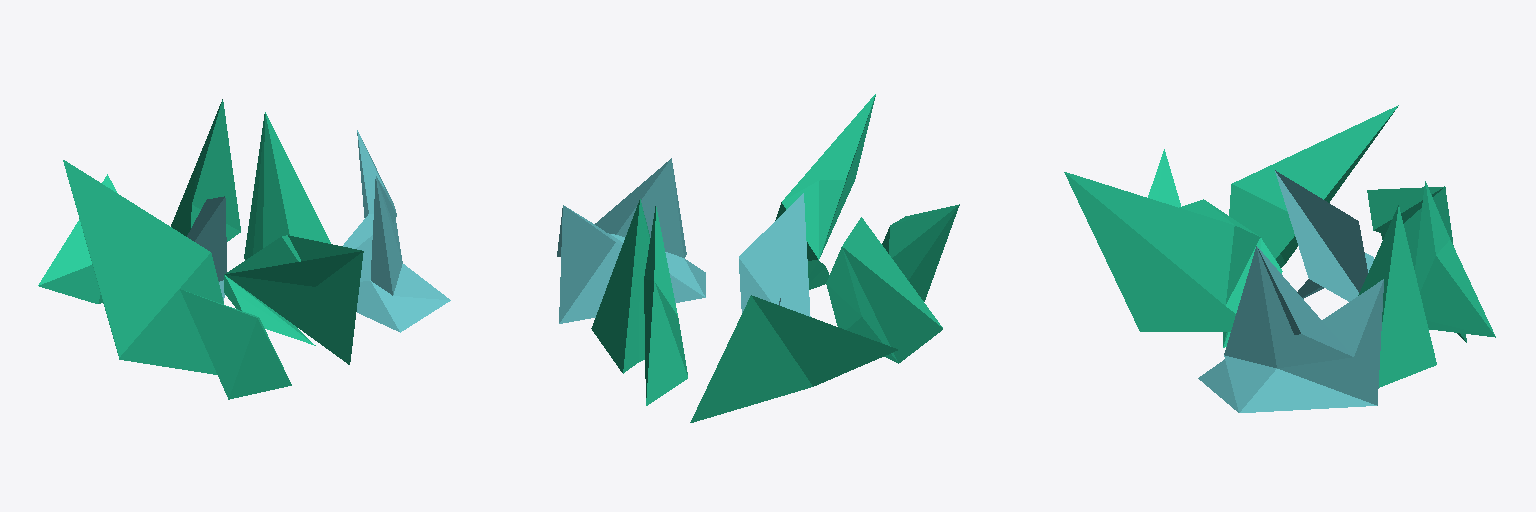
The model's file is glass_spikes1.obj.
3 views of the same model, side by side, from view 1: azimuth 30°, elevation 25°; view 2: azimuth 150°, elevation 25°; view 3: azimuth 270°, elevation 25° (orthographic).
Visible parts, largest first — view 1: Cube.007; view 2: Cube.007; view 3: Cube.007.
Part boxes in pixels (bbox=[...]): Cube.007: bbox=[38, 99, 450, 399]; Cube.007: bbox=[557, 94, 959, 422]; Cube.007: bbox=[1064, 105, 1495, 412].
Size of the model in its own units: 6.54 by 3.41 by 7.01.